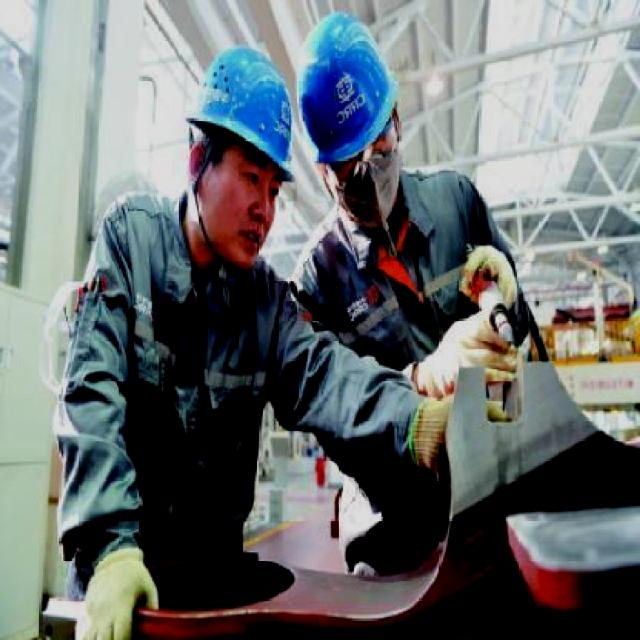face_mask: (340, 120, 418, 237)
face_nomask: (214, 154, 288, 263)
hand_glove: (71, 560, 160, 638), (438, 314, 517, 388), (466, 242, 520, 312)
head_helmet: (298, 17, 402, 178), (186, 52, 297, 172)
person: (45, 44, 298, 640), (288, 12, 550, 570)
